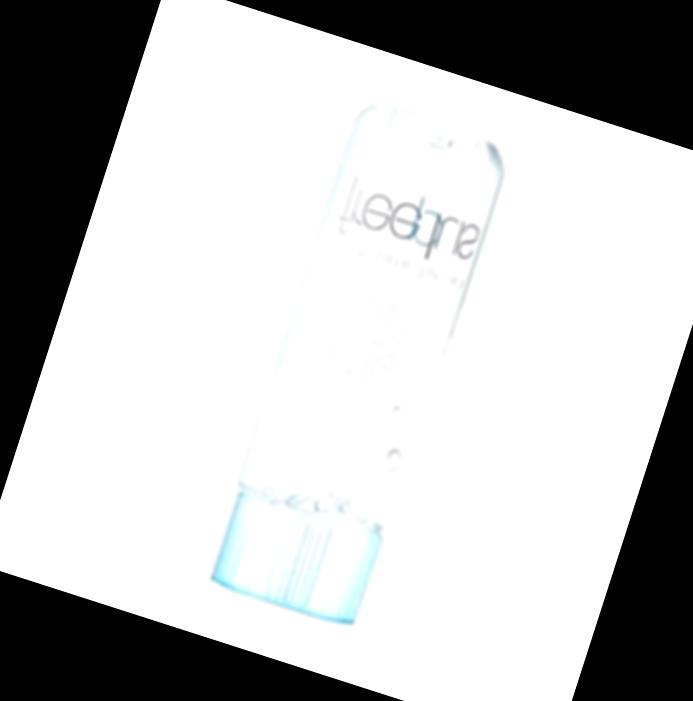cosmetic: (210, 95, 515, 626)
